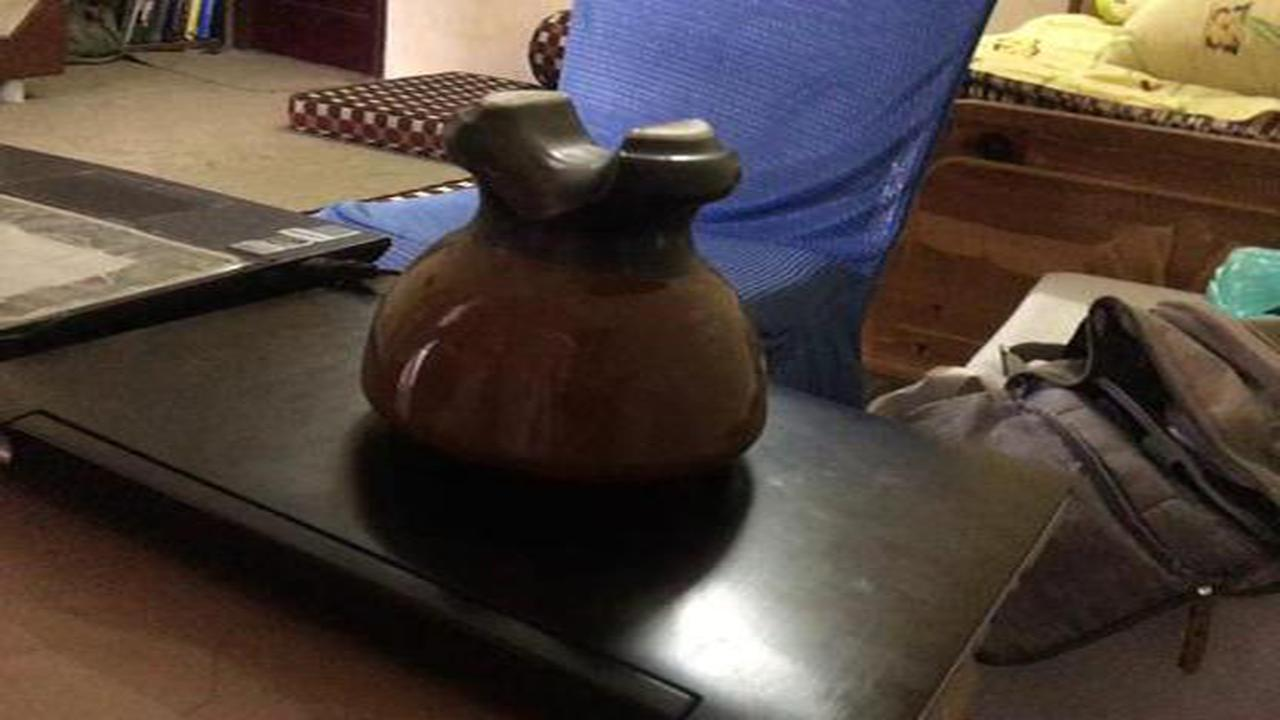insulator_pin: (347, 66, 801, 516)
